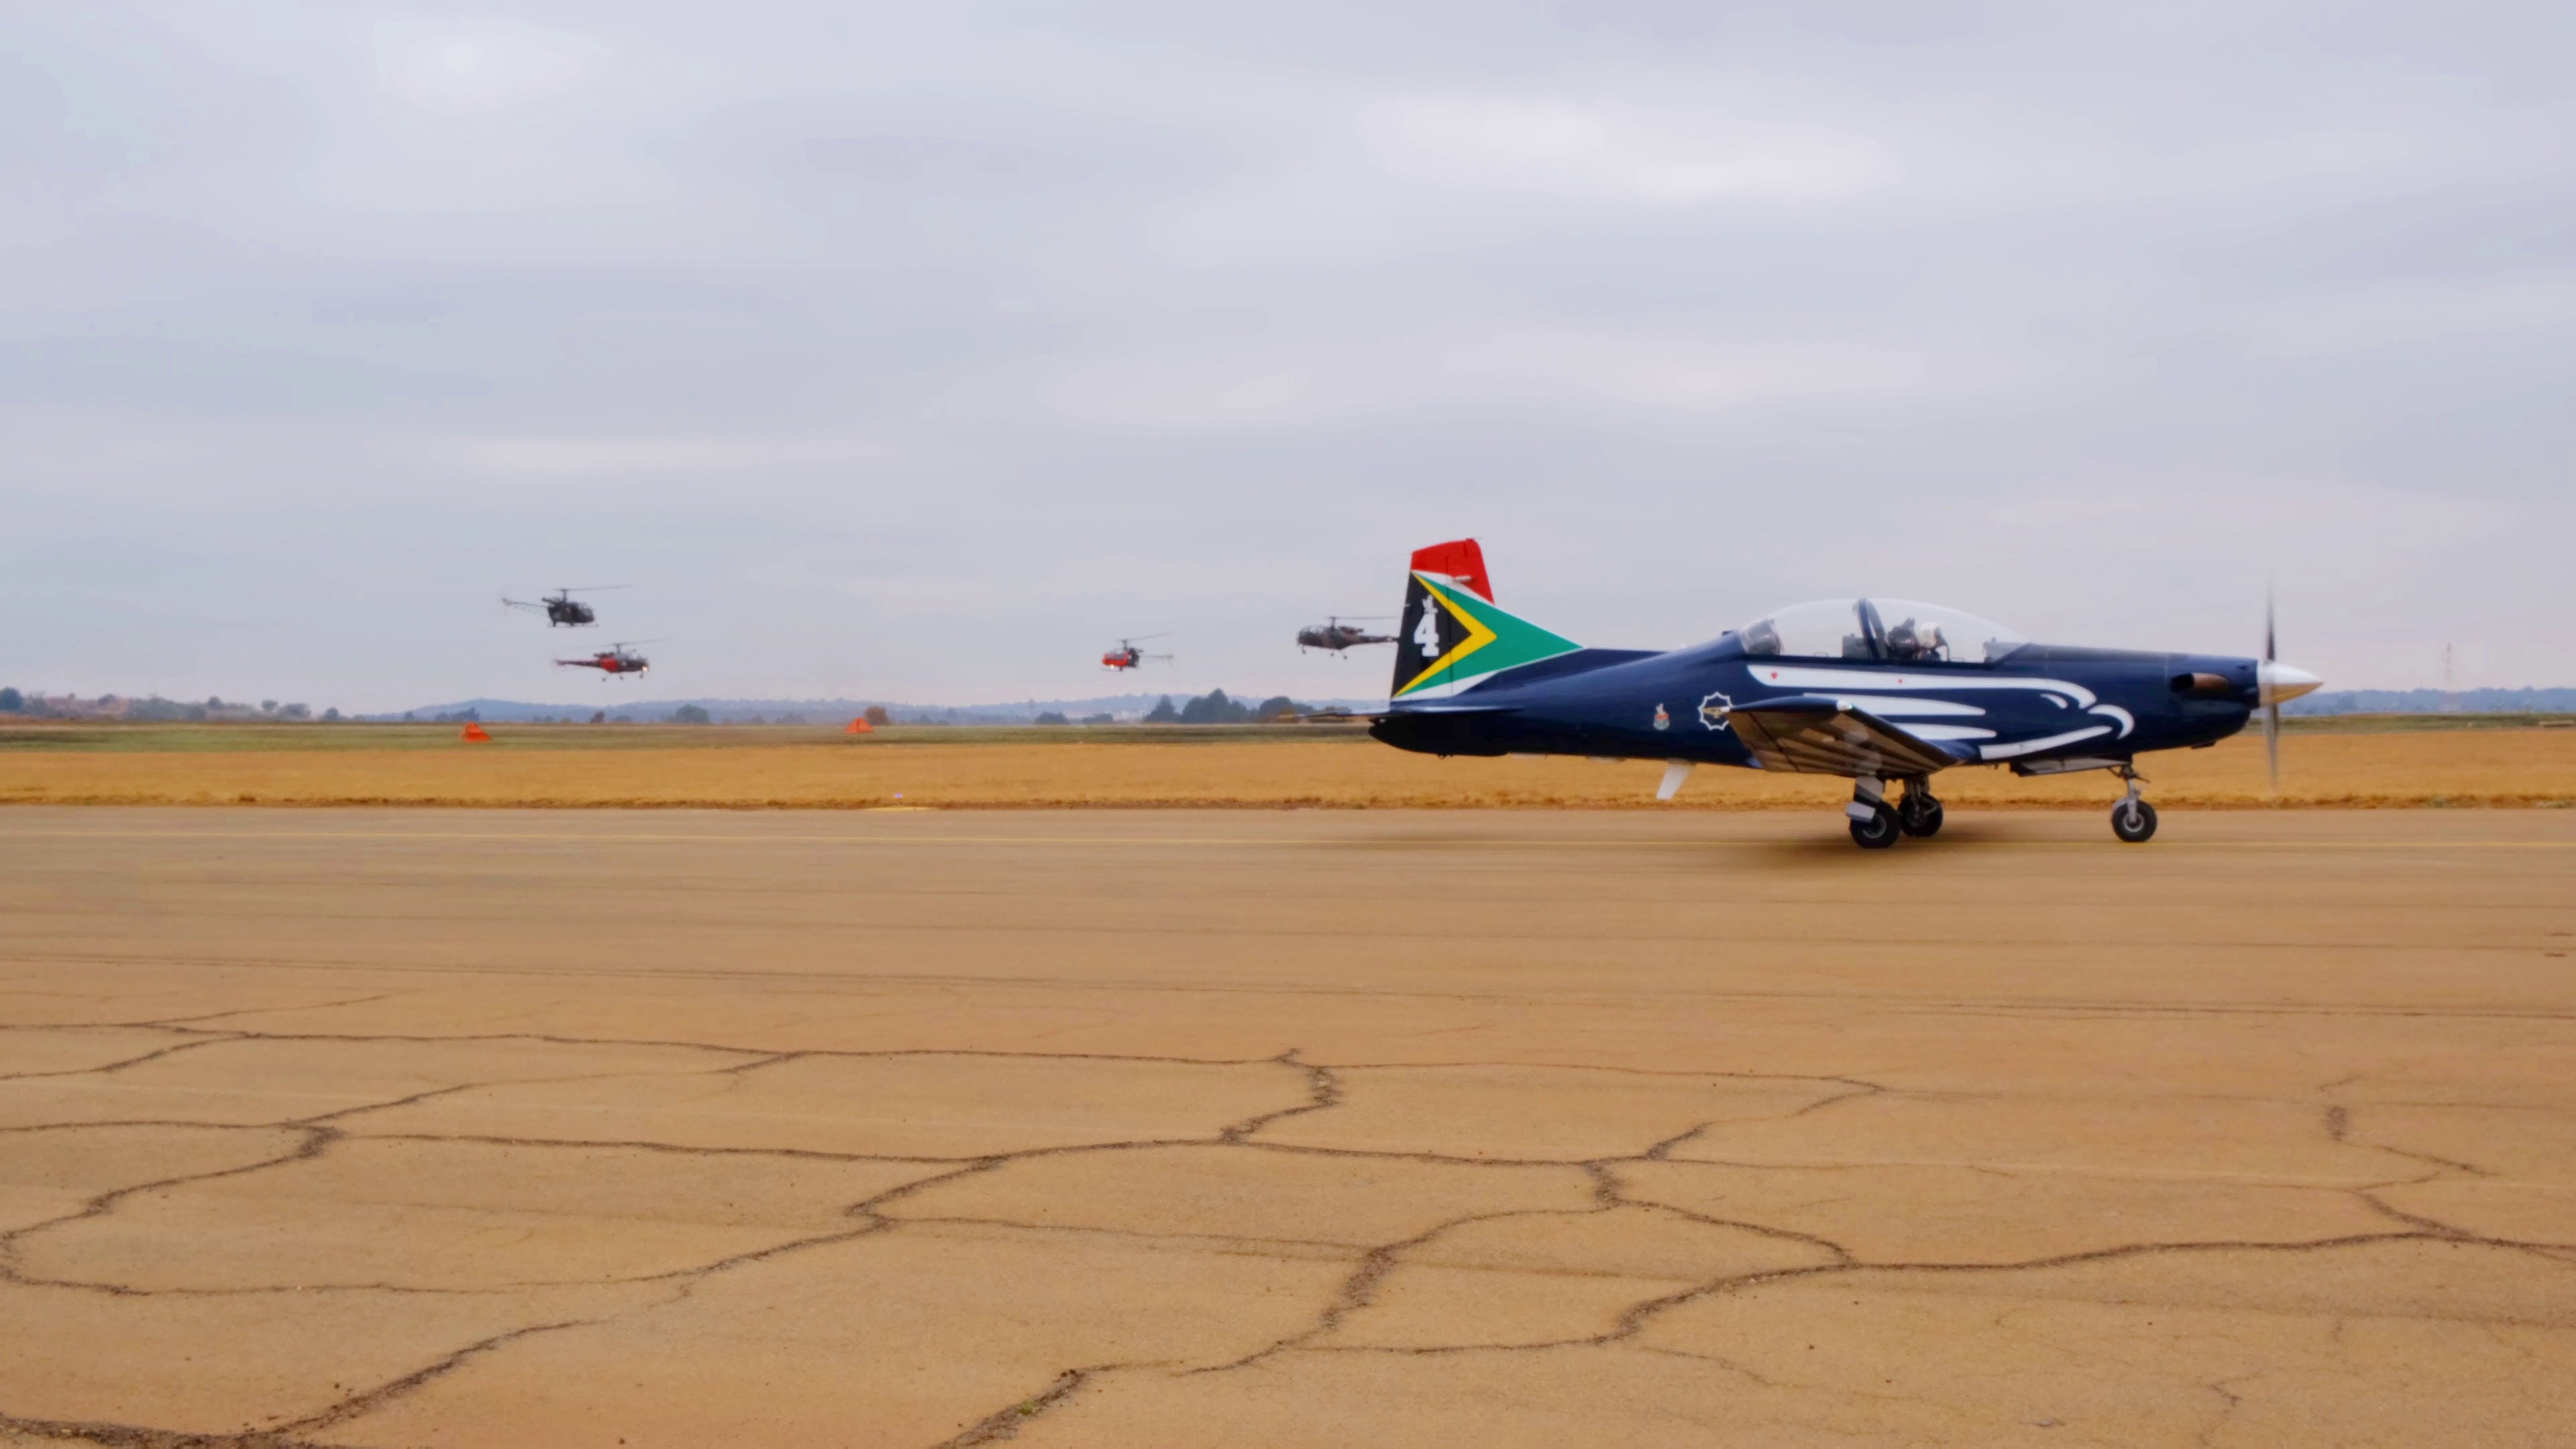heli: (502, 587, 630, 630), (1293, 614, 1398, 660), (556, 639, 665, 681), (1100, 633, 1182, 676)
plane: (1368, 541, 2325, 846)
